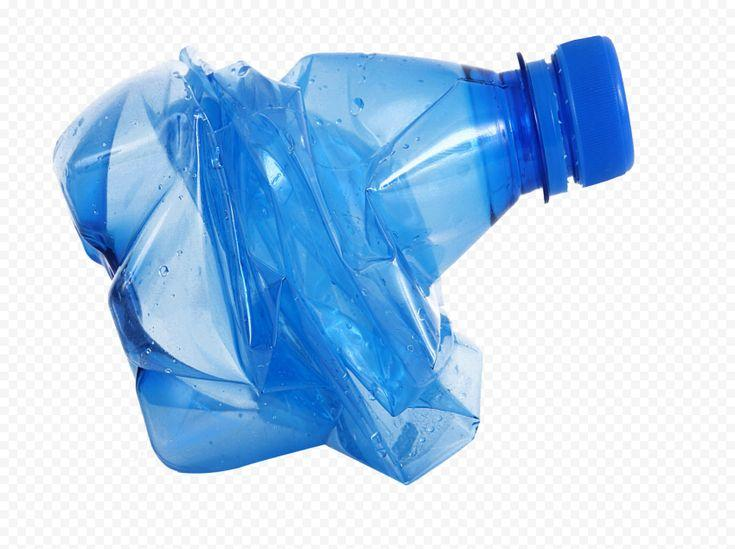plastic: (53, 35, 640, 482)
